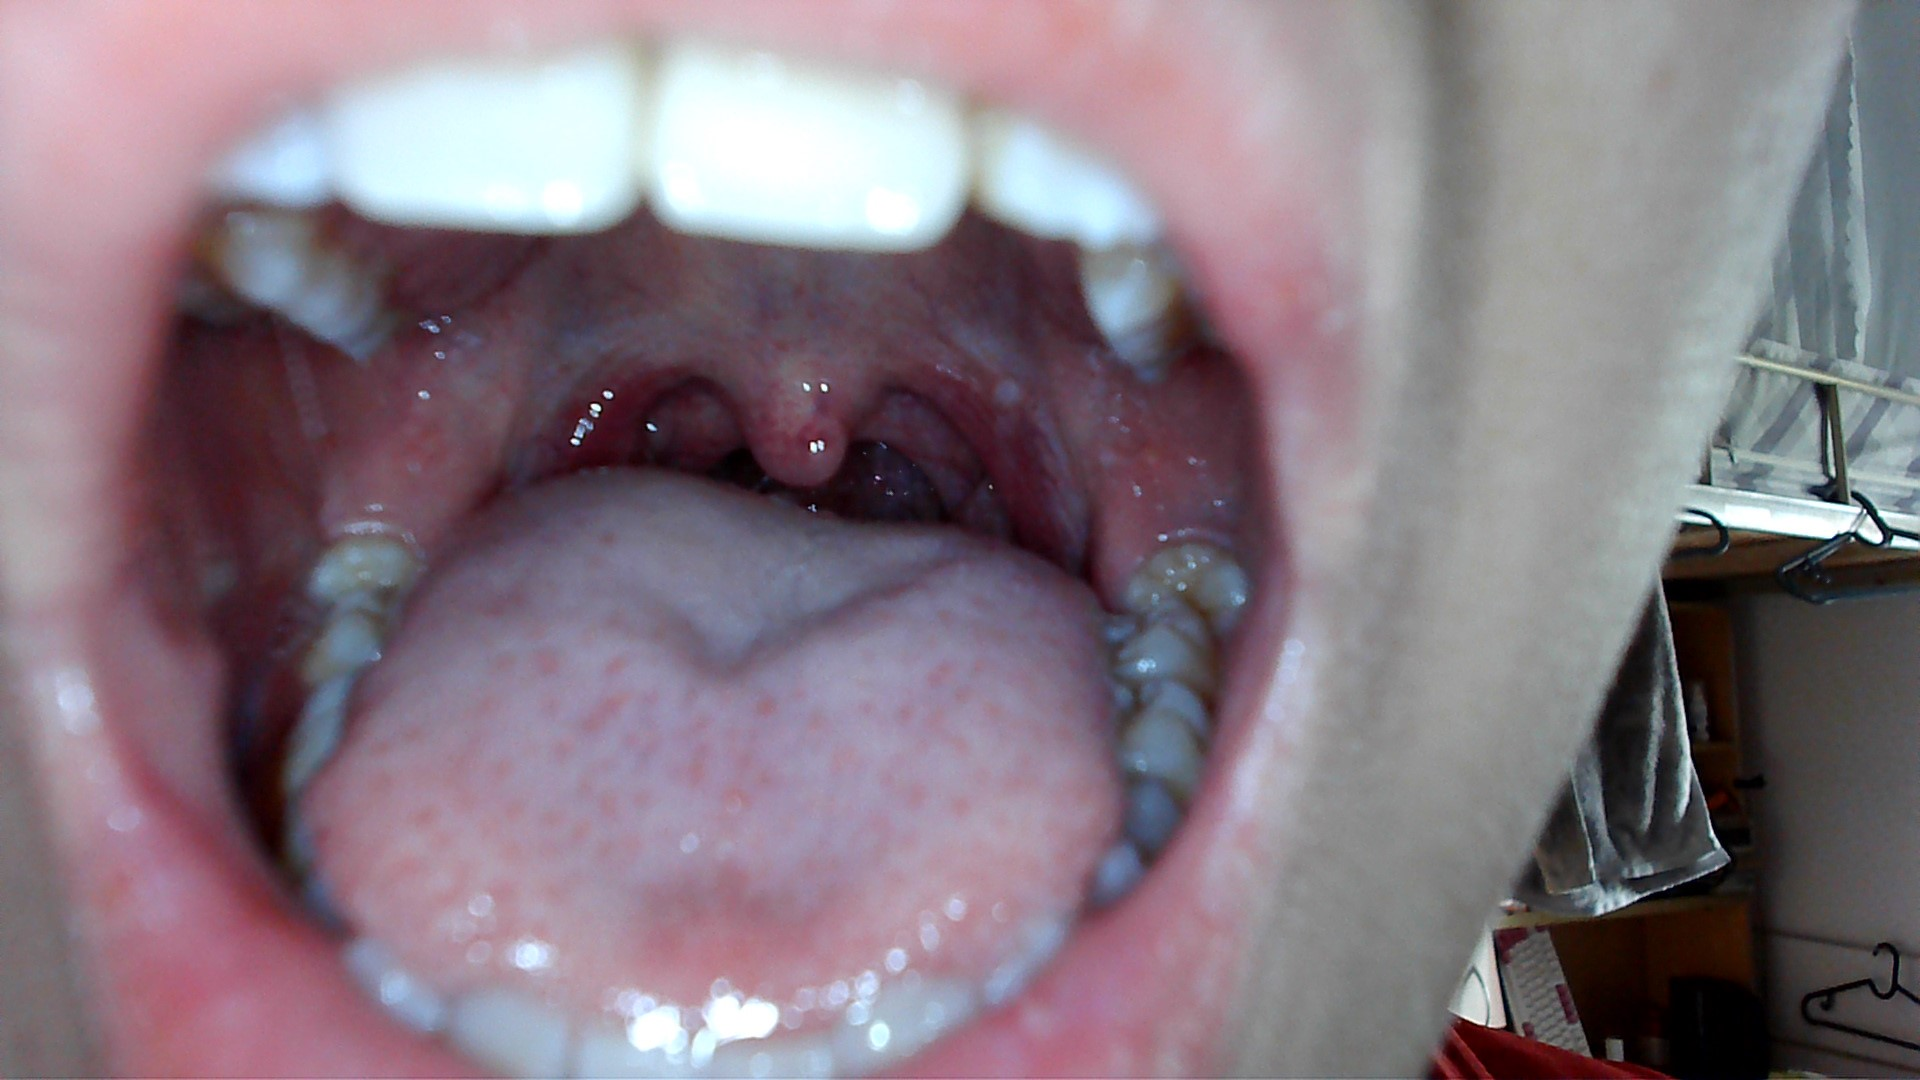throat: (949, 364, 1077, 549), (538, 348, 650, 472)
